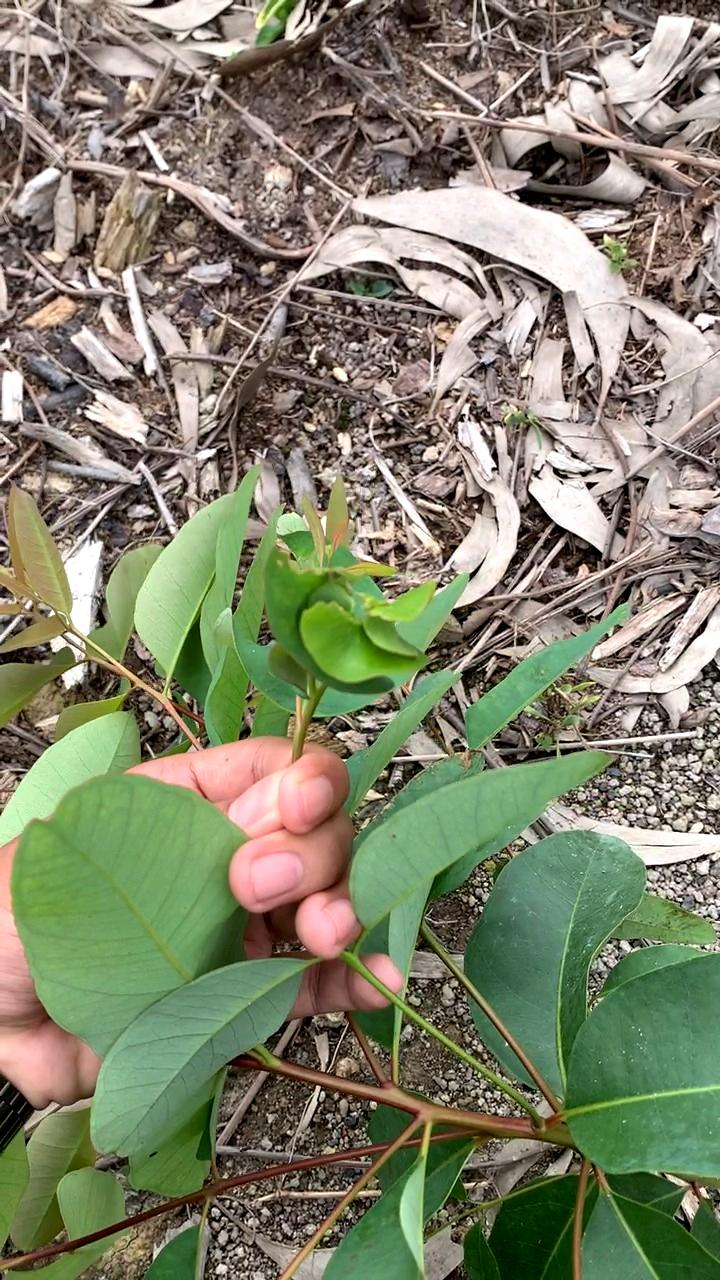Leaf Roller - Leaf: (276, 553, 421, 691)
